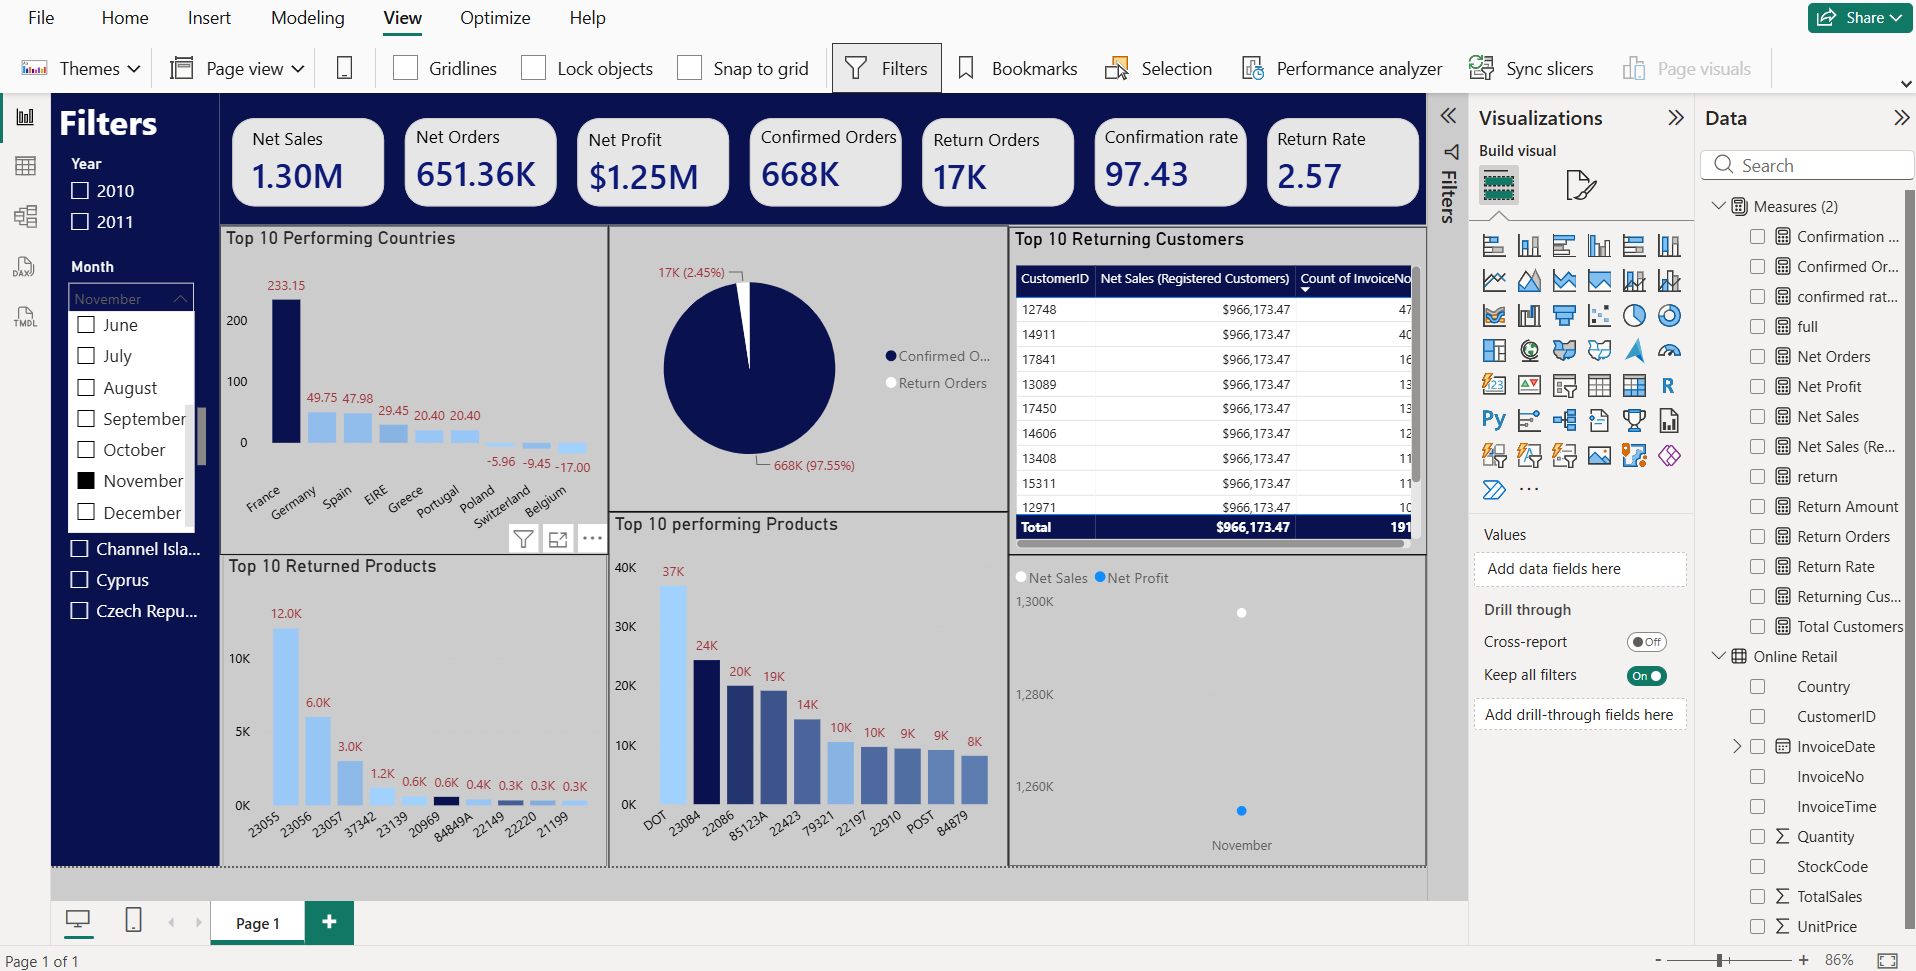

The page's visual inventory and layout, read from the dashboard file:
{"tool":"powerbi","page":{"name":"Page 1","canvas":[1280,720],"ordinal":0},"visuals":[{"type":"shape","box":[0,0,156.8,719.9],"z":0},{"type":"shape","box":[156.8,0,1122.1,122.7],"z":1000},{"type":"barChart","fields":{"Category":["Online Retail.CustomerID"]},"box":[158.6,471.5,541.3,249.5],"z":2000},{"type":"slicer","fields":{"Values":["Online Retail.Country"]},"box":[2.3,540.7,143,179.1],"z":3000},{"type":"slicer","fields":{"Values":["Online Retail.InvoiceDate.Variation.Date Hierarchy.Year"]},"box":[2.8,52.4,157.8,105.7],"z":4000},{"type":"lineChart","title":"Net Sales and Net Profit Trend","fields":{"Category":["Online Retail.InvoiceDate.Variation.Date Hierarchy.Year","Online Retail.InvoiceDate.Variation.Date Hierarchy.Quarter","Online Retail.InvoiceDate.Variation.Date Hierarchy.Month","Online Retail.InvoiceDate.Variation.Date Hierarchy.Day"],"Y":["Measures (2).Net Sales","Measures (2).Net Profit"]},"box":[890.3,429.5,388.6,290.4],"z":5000},{"type":"shape","box":[168.8,23.1,141.3,82.3],"z":6000},{"type":"shape","box":[329.1,23.1,141.3,82.3],"z":7000},{"type":"shape","box":[489.5,23.1,141.3,82.3],"z":8000},{"type":"shape","box":[649.9,23.1,141.3,82.3],"z":9000},{"type":"shape","box":[810.2,23.1,141.3,82.3],"z":10000},{"type":"shape","box":[970.6,23.1,141.3,82.3],"z":11000},{"type":"shape","box":[1131,23.1,141.3,82.3],"z":12000},{"type":"cardVisual","fields":{"Data":["Measures (2).Net Sales"]},"box":[157.8,12,227.8,104.3],"z":13000},{"type":"cardVisual","fields":{"Data":["Measures (2).Net Orders"]},"box":[310.1,9.6,227.8,104.3],"z":14000},{"type":"cardVisual","fields":{"Data":["Measures (2).Confirmed Orders"]},"box":[631.2,9.6,196.2,104.3],"z":15000},{"type":"cardVisual","fields":{"Data":["Measures (2).Return Orders"]},"box":[791.8,12.3,196.2,104.3],"z":16000},{"type":"cardVisual","fields":{"Data":["Measures (2).Return Rate"]},"box":[1111.5,12,160.5,104.3],"z":17000},{"type":"cardVisual","fields":{"Data":["Measures (2).Net Profit"]},"box":[470.7,12.3,227.8,104.3],"z":18000},{"type":"cardVisual","fields":{"Data":["Measures (2).Confirmation rate"]},"box":[950.9,9.6,196.2,104.3],"z":19000},{"type":"listSlicer","fields":{"Values":["Online Retail.InvoiceDate.Variation.Date Hierarchy.Month"]},"box":[5.8,139.5,132.6,401.2],"z":20000},{"type":"clusteredColumnChart","title":"Top 10 Returned Products","fields":{"Category":["Online Retail.StockCode"],"Y":["Measures (2).Return Rate"]},"box":[159.5,429.5,358.6,291.8],"z":21000},{"type":"columnChart","title":"Top 10 performing Products","fields":{"Category":["Online Retail.StockCode"],"Y":["Measures (2).Net Sales"]},"box":[518.6,389.5,372.1,330.2],"z":22000},{"type":"tableEx","title":"Top 10 Returning Customers","fields":{"Values":["Online Retail.CustomerID","Measures (2).Net Sales (Registered Customers)","Online Retail.InvoiceNo"]},"box":[890.3,124.1,389.9,305.4],"z":23000},{"type":"textbox","box":[2.8,0,140.2,65.1],"z":24000},{"type":"pieChart","fields":{"Y":["Measures (2).Confirmed Orders","Measures (2).Return Orders"]},"box":[518.6,123.3,372.1,266.3],"z":25000},{"type":"clusteredColumnChart","title":"Top 10 Performing Countries","fields":{"Category":["Online Retail.Country"],"Y":["Measures (2).Net Sales"]},"box":[156.8,122.7,361.3,306.8],"z":26000}]}

Visuals, with their boxes on the page's 1280x720 design canvas (x1, y1, x2, y2). These are canvas units, not pixel positions in the 1916x971 screenshot, which may show the page scaled, cropped or inside an application window:
shape: {"x1": 0, "y1": 0, "x2": 157, "y2": 720}
shape: {"x1": 157, "y1": 0, "x2": 1279, "y2": 123}
barChart - Online Retail.CustomerID: {"x1": 159, "y1": 472, "x2": 700, "y2": 721}
slicer - Online Retail.Country: {"x1": 2, "y1": 541, "x2": 145, "y2": 720}
slicer - Online Retail.InvoiceDate.Variation.Date Hierarchy.Year: {"x1": 3, "y1": 52, "x2": 161, "y2": 158}
"Net Sales and Net Profit Trend" lineChart: {"x1": 890, "y1": 430, "x2": 1279, "y2": 720}
shape: {"x1": 169, "y1": 23, "x2": 310, "y2": 105}
shape: {"x1": 329, "y1": 23, "x2": 470, "y2": 105}
shape: {"x1": 490, "y1": 23, "x2": 631, "y2": 105}
shape: {"x1": 650, "y1": 23, "x2": 791, "y2": 105}
shape: {"x1": 810, "y1": 23, "x2": 952, "y2": 105}
shape: {"x1": 971, "y1": 23, "x2": 1112, "y2": 105}
shape: {"x1": 1131, "y1": 23, "x2": 1272, "y2": 105}
cardVisual - Measures (2).Net Sales: {"x1": 158, "y1": 12, "x2": 386, "y2": 116}
cardVisual - Measures (2).Net Orders: {"x1": 310, "y1": 10, "x2": 538, "y2": 114}
cardVisual - Measures (2).Confirmed Orders: {"x1": 631, "y1": 10, "x2": 827, "y2": 114}
cardVisual - Measures (2).Return Orders: {"x1": 792, "y1": 12, "x2": 988, "y2": 117}
cardVisual - Measures (2).Return Rate: {"x1": 1112, "y1": 12, "x2": 1272, "y2": 116}
cardVisual - Measures (2).Net Profit: {"x1": 471, "y1": 12, "x2": 698, "y2": 117}
cardVisual - Measures (2).Confirmation rate: {"x1": 951, "y1": 10, "x2": 1147, "y2": 114}
listSlicer - Online Retail.InvoiceDate.Variation.Date Hierarchy.Month: {"x1": 6, "y1": 140, "x2": 138, "y2": 541}
"Top 10 Returned Products" clusteredColumnChart: {"x1": 160, "y1": 430, "x2": 518, "y2": 721}
"Top 10 performing Products" columnChart: {"x1": 519, "y1": 390, "x2": 891, "y2": 720}
"Top 10 Returning Customers" tableEx: {"x1": 890, "y1": 124, "x2": 1280, "y2": 430}
textbox: {"x1": 3, "y1": 0, "x2": 143, "y2": 65}
pieChart - Measures (2).Confirmed Orders x Measures (2).Return Orders: {"x1": 519, "y1": 123, "x2": 891, "y2": 390}
"Top 10 Performing Countries" clusteredColumnChart: {"x1": 157, "y1": 123, "x2": 518, "y2": 430}
